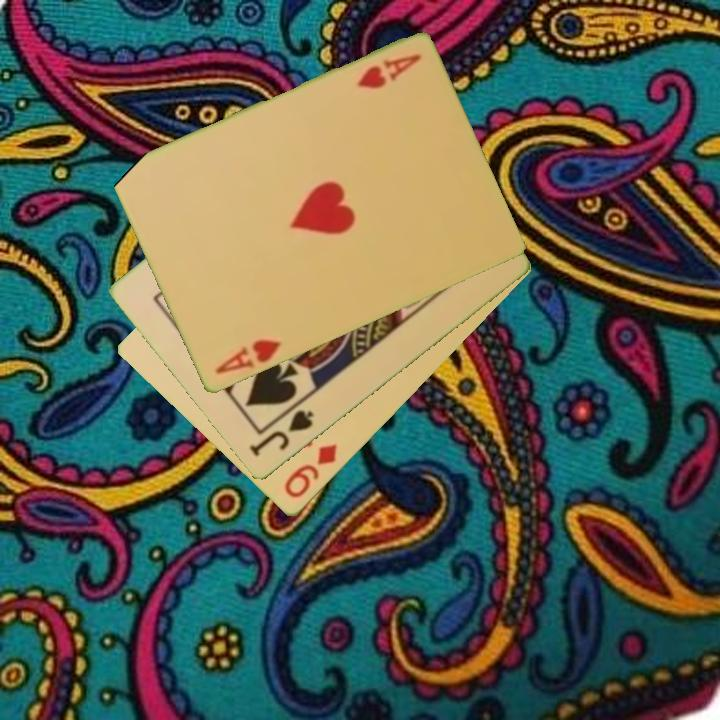9d: (280, 440, 341, 502)
Ah: (211, 336, 284, 378), (353, 51, 424, 93)
Js: (245, 406, 317, 460)
